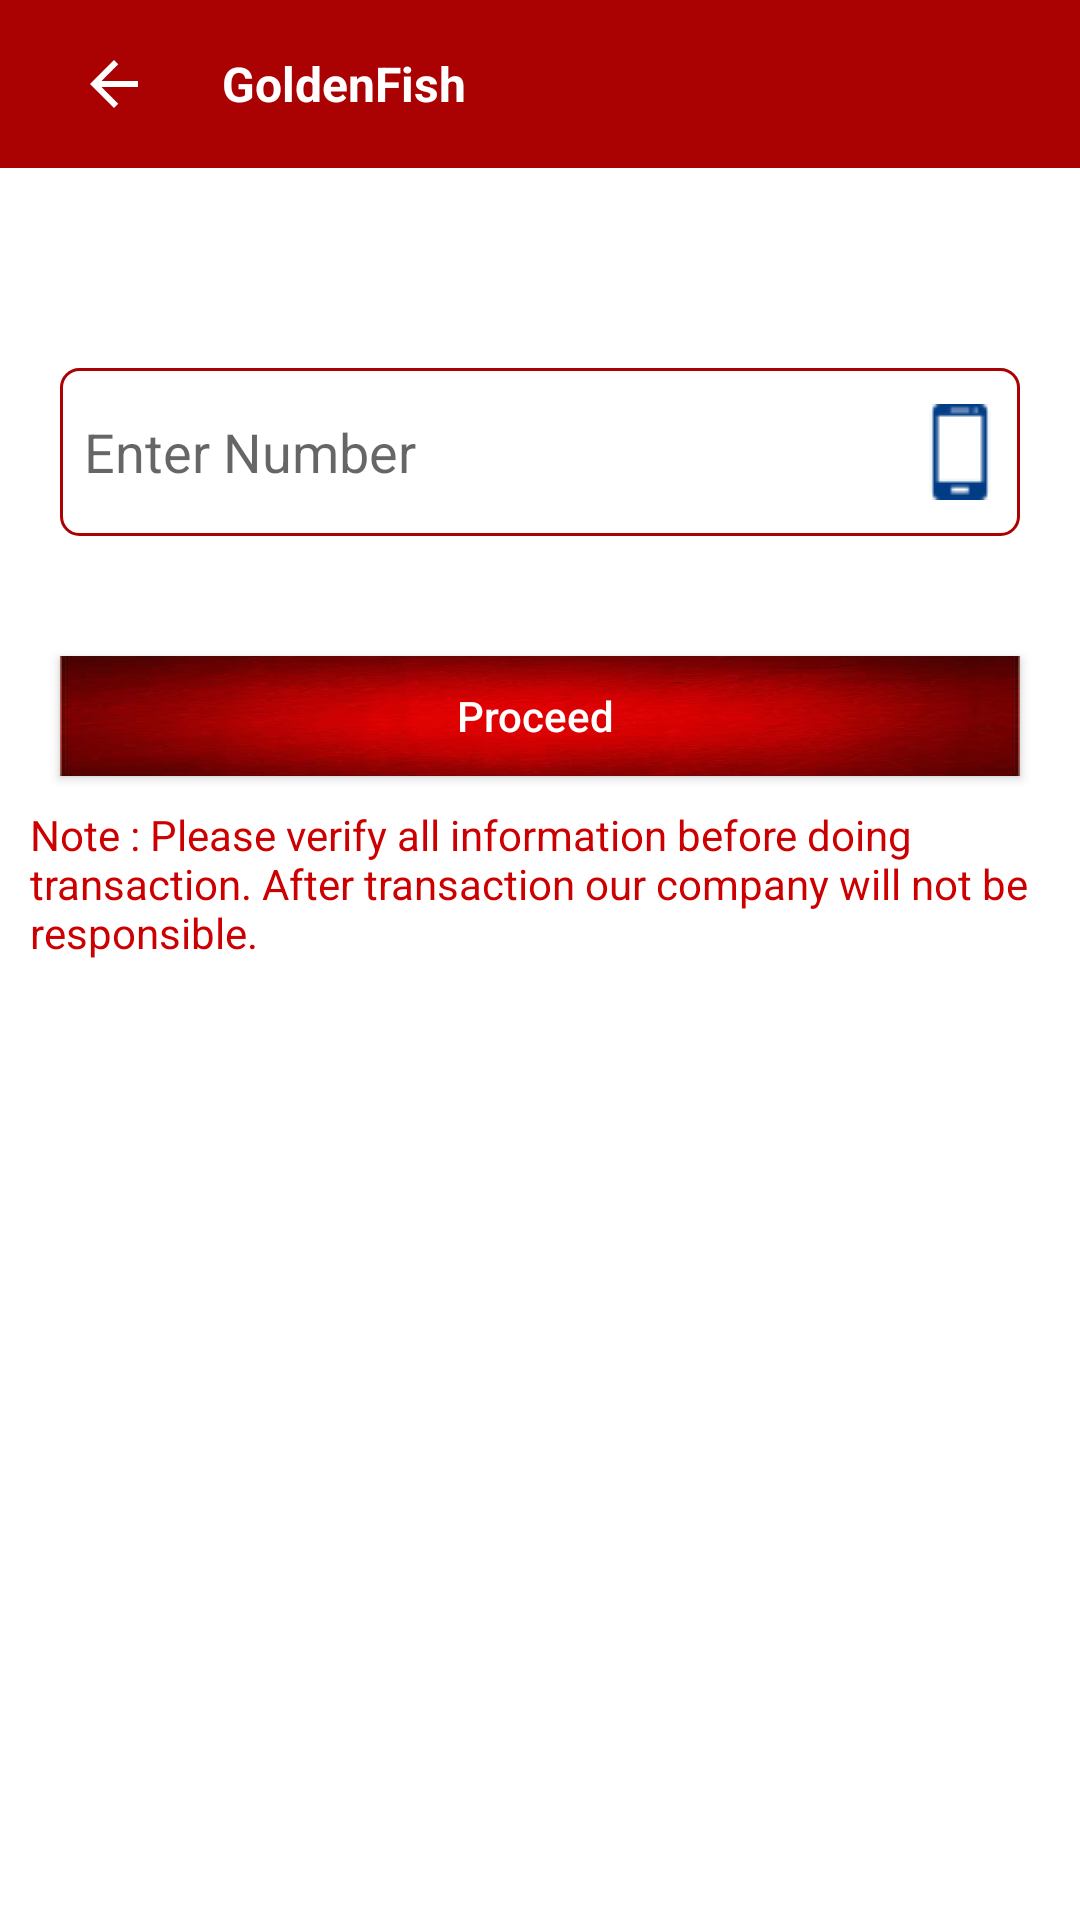

Where icons sit on this 1080w x 1920h app screen, as (left=x1, top=y1, right=x2, bottom=y2):
back: (left=90, top=60, right=138, bottom=108)
